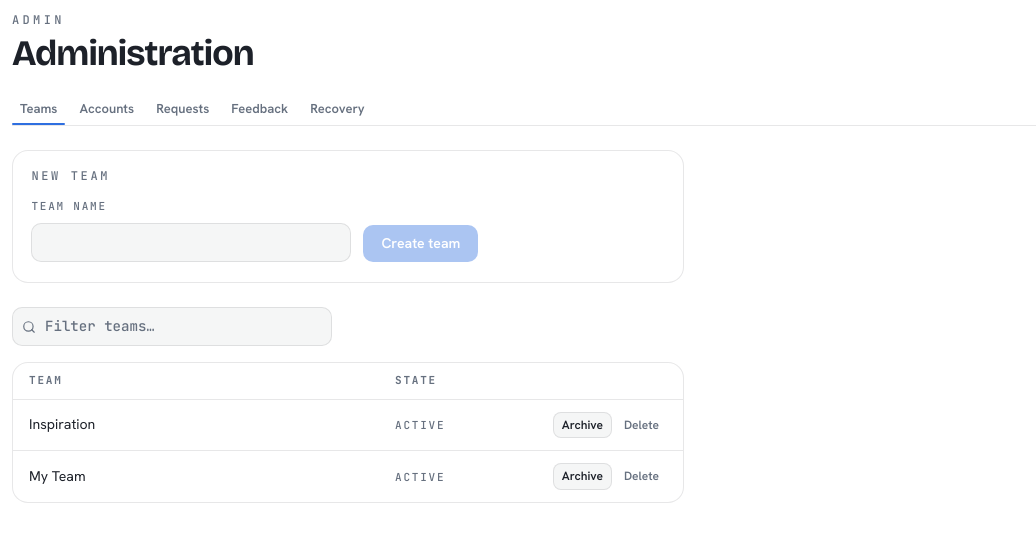
Test: AdminPage › lists teams, accounts, and grace-archived content across its tabs
The image size is (1036, 549).
Check: the text "My Team" is shown, box x1=13 y1=451 x2=379 y2=502
Check: the text "Active" in the row of "My Team" is shown, box x1=395 y1=470 x2=445 y2=484
Click the tab "Accounts". click: point(107, 110)
box: x1=71 y1=96 x2=142 y2=125
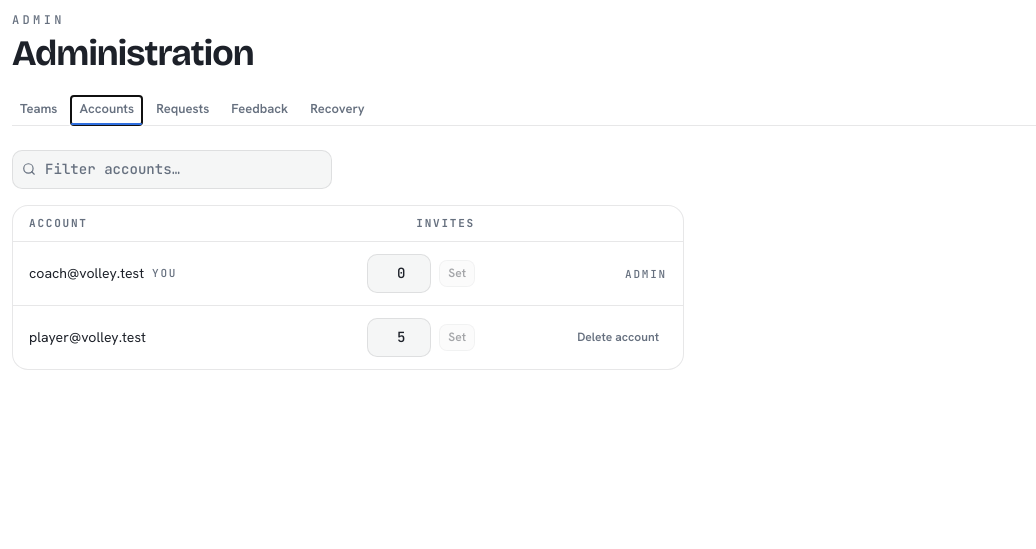
Check: the text "player@volley.test" is shown, box x1=29 y1=327 x2=146 y2=348
Check: the text "Admin" in the row of "coach@volley.test" is shown, box x1=625 y1=267 x2=667 y2=281
Check: the button "Delete account" is shown, box x1=569 y1=326 x2=667 y2=350
Click the tab "Recovery". click: point(337, 110)
box: x1=302 y1=96 x2=373 y2=125
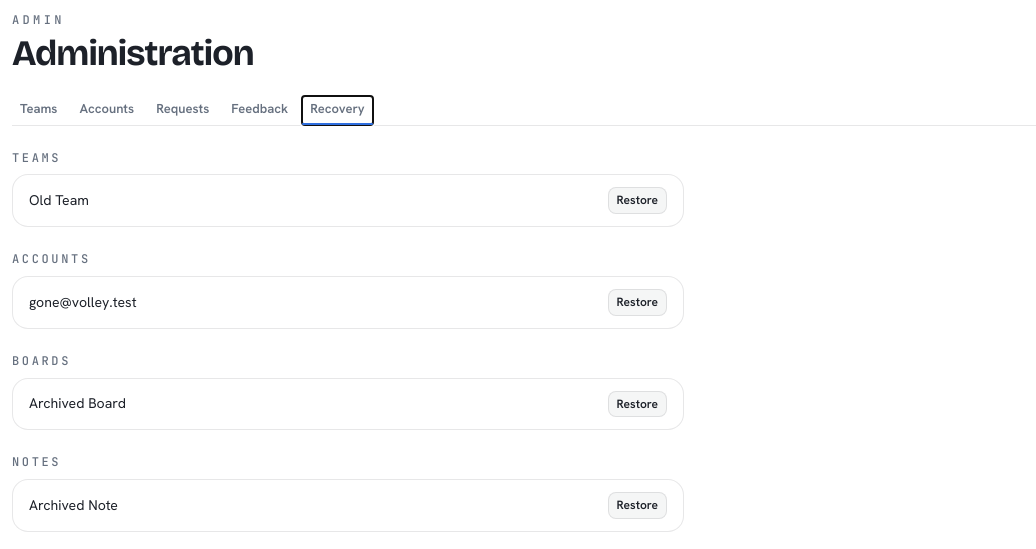
Check: the text "Archived Board" is shown, box x1=13 y1=379 x2=571 y2=429
Check: the text "Archived Note" is shown, box x1=13 y1=480 x2=571 y2=531
